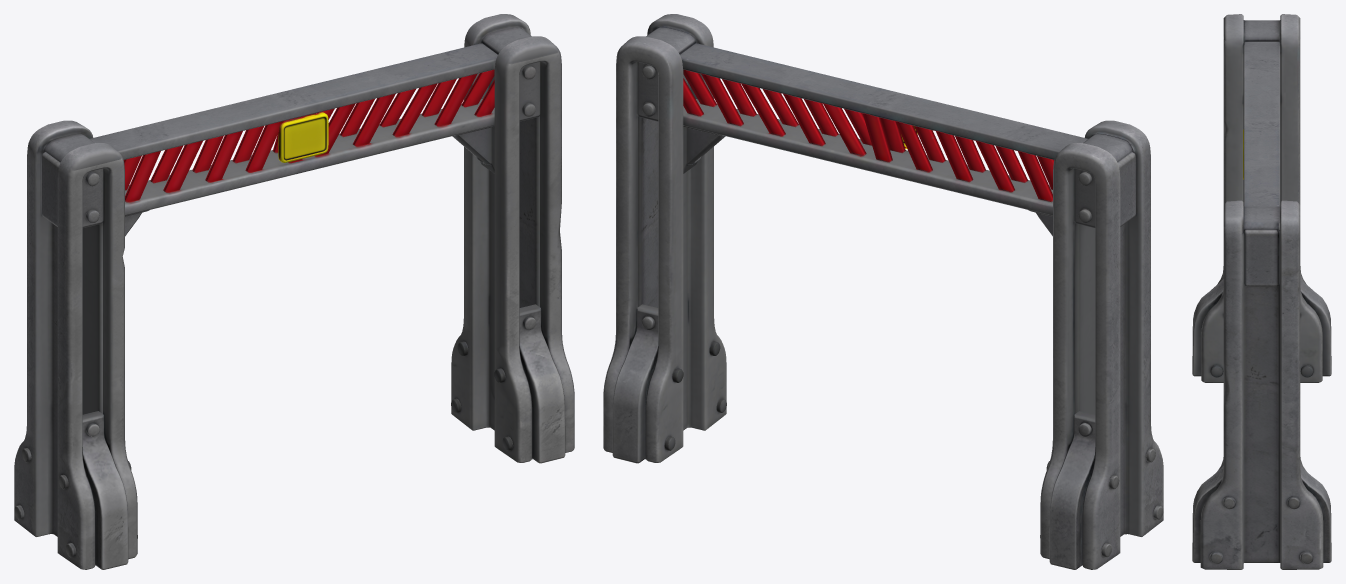
Rendered from obstacle_hurdle_barrier.glb.
3 views of the same model, side by side, from view 1: azimuth 30°, elevation 25°; view 2: azimuth 150°, elevation 25°; view 3: azimuth 270°, elevation 25° (orthographic). The views are drawn at different scales.
Parts seen in each view (by area): view 1: tripo_node_342f97d3-02fb-4047-8588-0f1edd5101e9; view 2: tripo_node_342f97d3-02fb-4047-8588-0f1edd5101e9; view 3: tripo_node_342f97d3-02fb-4047-8588-0f1edd5101e9.
Part boxes in pixels (x1=…): tripo_node_342f97d3-02fb-4047-8588-0f1edd5101e9: x1=14, y1=14, x2=574, y2=569; tripo_node_342f97d3-02fb-4047-8588-0f1edd5101e9: x1=603, y1=14, x2=1163, y2=569; tripo_node_342f97d3-02fb-4047-8588-0f1edd5101e9: x1=1192, y1=14, x2=1331, y2=569.
Bounding box in the file's own units: 0.9995 × 0.7642 × 0.2739.
Materials: 1 (1 with a texture image).
